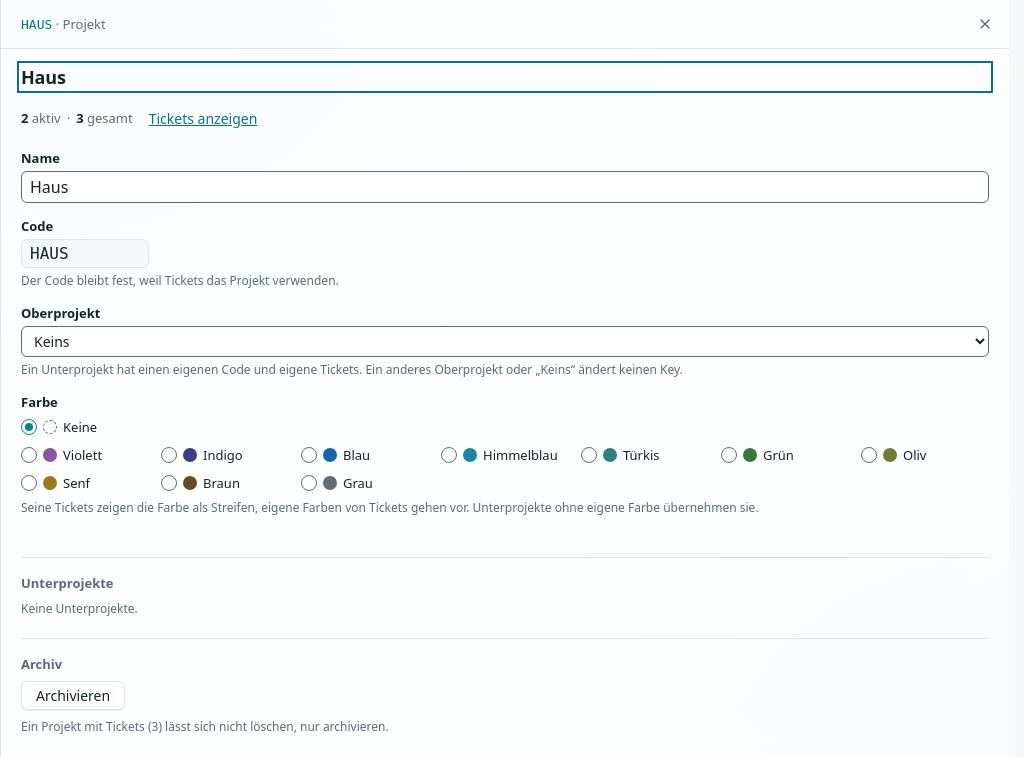
Test: project panel: a project › shows a failure of archiving in the panel
Click the button "Archivieren" at (73, 695), box [21,680,125,710]
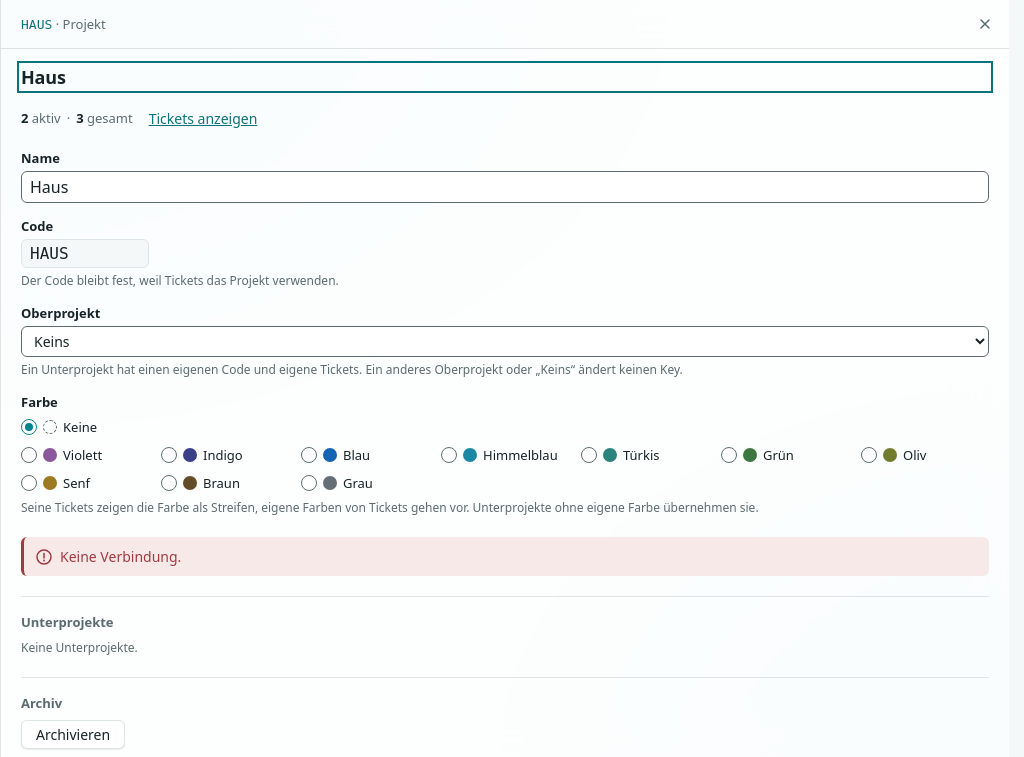
Check: the text "Keine Verbindung." is shown, box [60,546,181,566]
